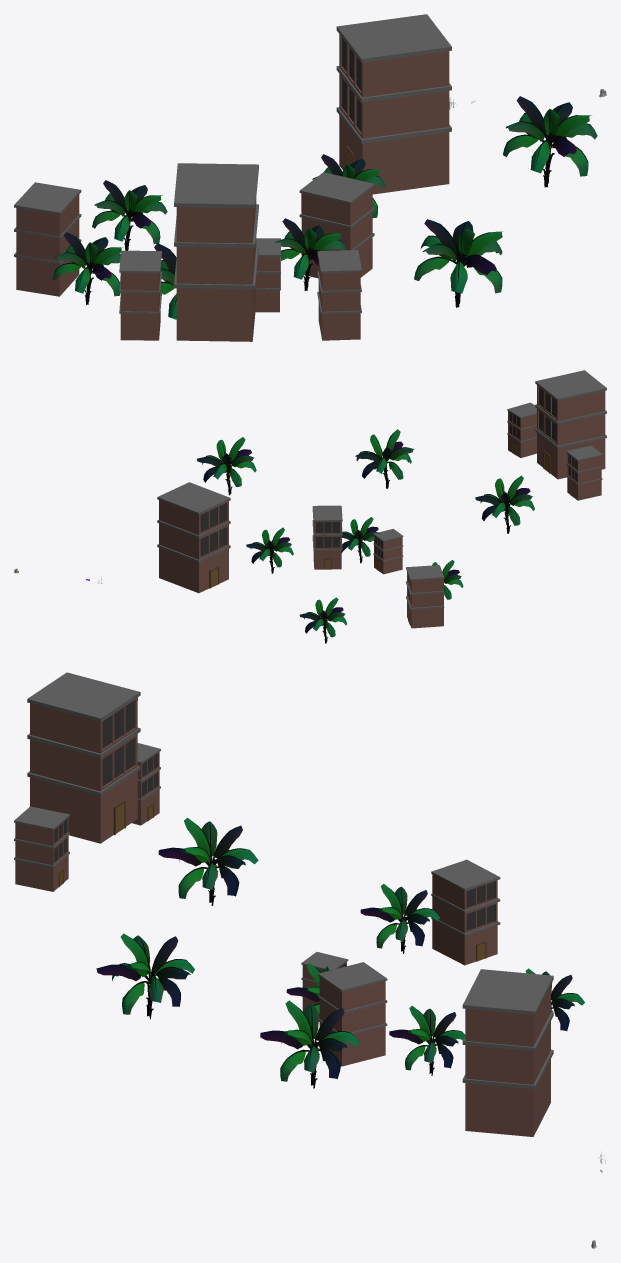
File: Cidade.fbx
3 views of the same model, one above another, from view 1: azimuth 30°, elevation 25°; view 2: azimuth 150°, elevation 25°; view 3: azimuth 270°, elevation 25° (orthographic). The views are drawn at different scales.
Parts seen in each view (by area): view 1: Cube, Cube_3, Cube_006, Cube_006_3, Cube_5, banana__3_, banana__1_, Cube_1, Cube_6, Cube_4, banana__6_, banana__5_ (+9 smaller); view 2: Cube, Cube_3, Cube_006, Cube_006_3, Cube_5, banana__3_, banana, banana__1_, Cube_4, banana__4_, Cube_6, banana__6_ (+10 smaller); view 3: Cube_3, Cube, Cube_006_3, Cube_006, Cube_1, Cube_5, banana, banana__3_, banana__1_, Cube_6, banana__5_, banana__4_ (+7 smaller).
Part boxes in pixels (x1,y1,x2,y2): Cube: [339, 34, 449, 194]; Cube_3: [176, 198, 256, 341]; Cube_006: [336, 14, 451, 143]; Cube_006_3: [174, 163, 258, 289]; Cube_5: [16, 195, 79, 296]; banana__3_: [503, 96, 597, 187]; banana__1_: [414, 219, 502, 307]; Cube_1: [301, 188, 372, 278]; Cube_6: [318, 261, 360, 340]; Cube_4: [120, 272, 160, 340]; banana__6_: [92, 180, 167, 250]; banana__5_: [52, 232, 123, 304]; Cube: [159, 500, 228, 593]; Cube_3: [537, 385, 605, 479]; Cube_006: [157, 482, 230, 562]; Cube_006_3: [535, 370, 606, 448]; Cube_5: [407, 572, 443, 628]; banana__3_: [196, 437, 256, 495]; banana: [475, 475, 534, 533]; banana__1_: [355, 429, 414, 488]; Cube_4: [567, 453, 601, 500]; banana__4_: [246, 527, 293, 573]; Cube_6: [508, 411, 536, 457]; banana__6_: [299, 597, 346, 643]; Cube_3: [30, 697, 137, 843]; Cube: [465, 985, 550, 1136]; Cube_006_3: [27, 672, 140, 796]; Cube_006: [462, 969, 553, 1089]; Cube_1: [319, 977, 385, 1066]; Cube_5: [432, 874, 497, 965]; banana: [158, 817, 258, 905]; banana__3_: [260, 1000, 359, 1088]; banana__1_: [96, 933, 194, 1019]; Cube_6: [15, 817, 68, 891]; banana__5_: [360, 884, 439, 953]; banana__4_: [389, 1005, 465, 1075].
Bounding box in the file's own units: 5648 × 2137 × 4258.
